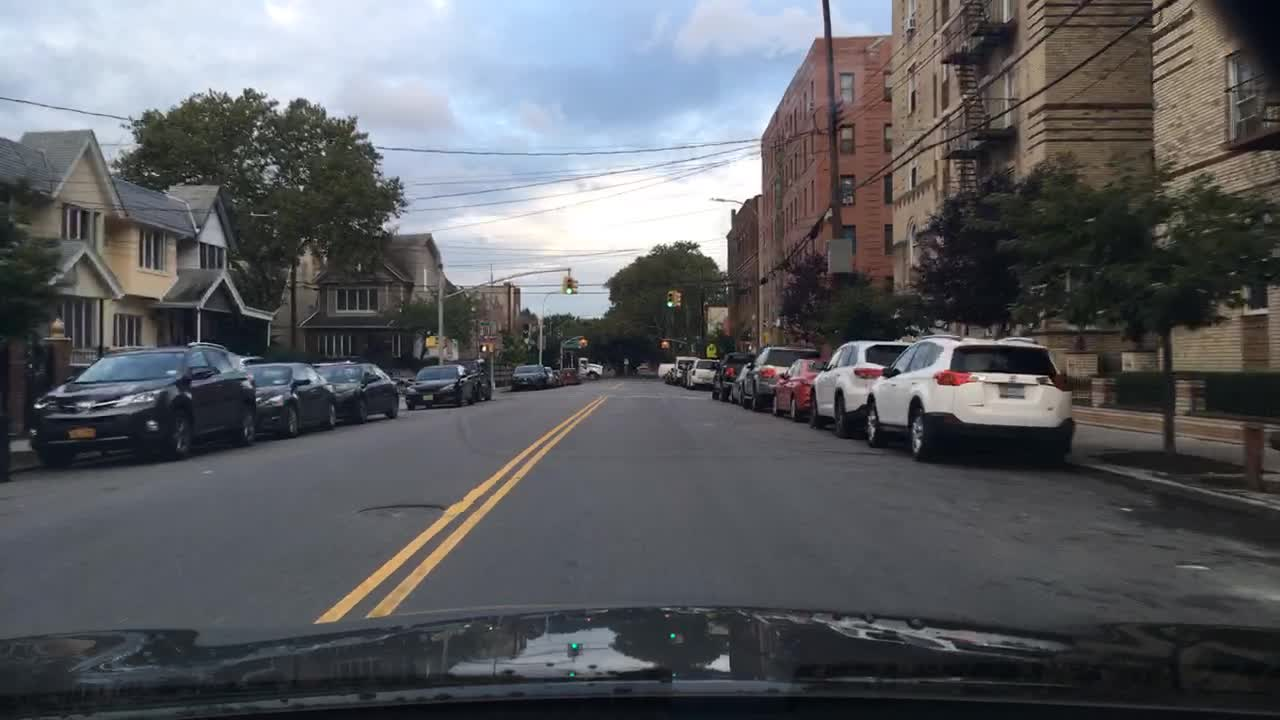car: (30, 338, 257, 470), (862, 331, 1078, 461), (802, 339, 917, 436), (239, 359, 341, 440), (312, 360, 401, 425), (738, 345, 822, 410), (774, 356, 835, 418), (404, 365, 475, 413), (709, 351, 758, 399), (685, 359, 724, 391), (464, 364, 495, 403), (509, 365, 548, 392), (731, 362, 752, 410), (671, 356, 698, 386), (543, 365, 558, 387), (563, 367, 580, 385), (661, 367, 673, 385), (554, 370, 568, 385)
traffic light: (424, 334, 437, 349), (565, 276, 572, 294), (674, 290, 681, 306), (668, 288, 674, 306), (572, 278, 578, 294), (580, 335, 587, 348), (559, 277, 564, 292), (662, 339, 667, 349)
truck: (572, 358, 604, 379)
